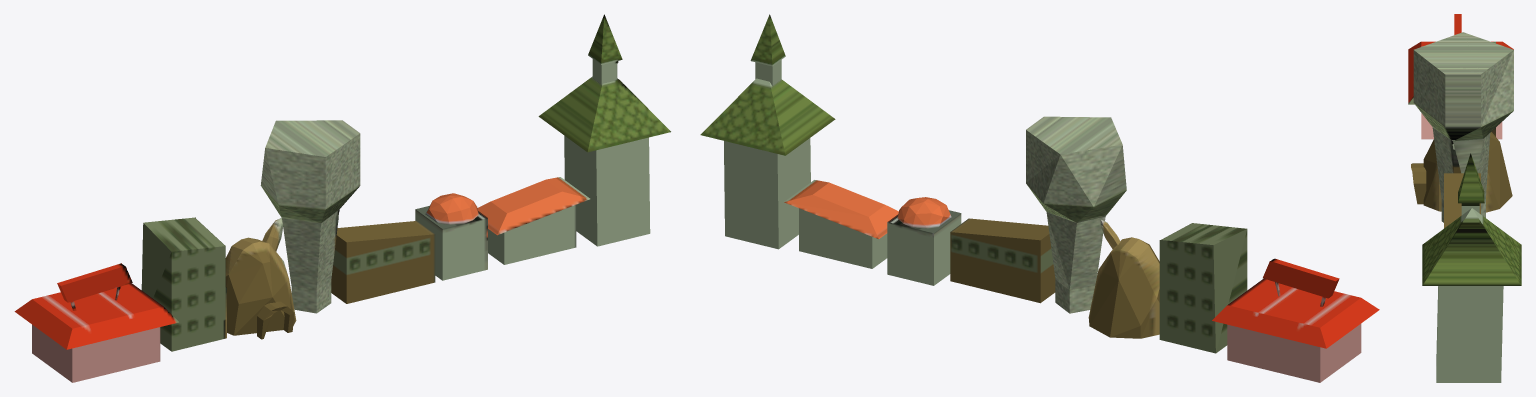
The model's file is Town2.glb.
The picture shows the model from 3 angles, left to right: view 1: azimuth 30°, elevation 25°; view 2: azimuth 150°, elevation 25°; view 3: azimuth 270°, elevation 25°; orthographic projection.
Visible parts, largest first — view 1: Town2; view 2: Town2; view 3: Town2.
Boxes of the visible parts, left/top/right/bottom form: Town2: left=14, top=14, right=670, bottom=382; Town2: left=700, top=14, right=1379, bottom=382; Town2: left=1408, top=14, right=1521, bottom=382.
Size of the model in its own units: 270 by 91.22 by 42.94.
1 material, 1 textured.
